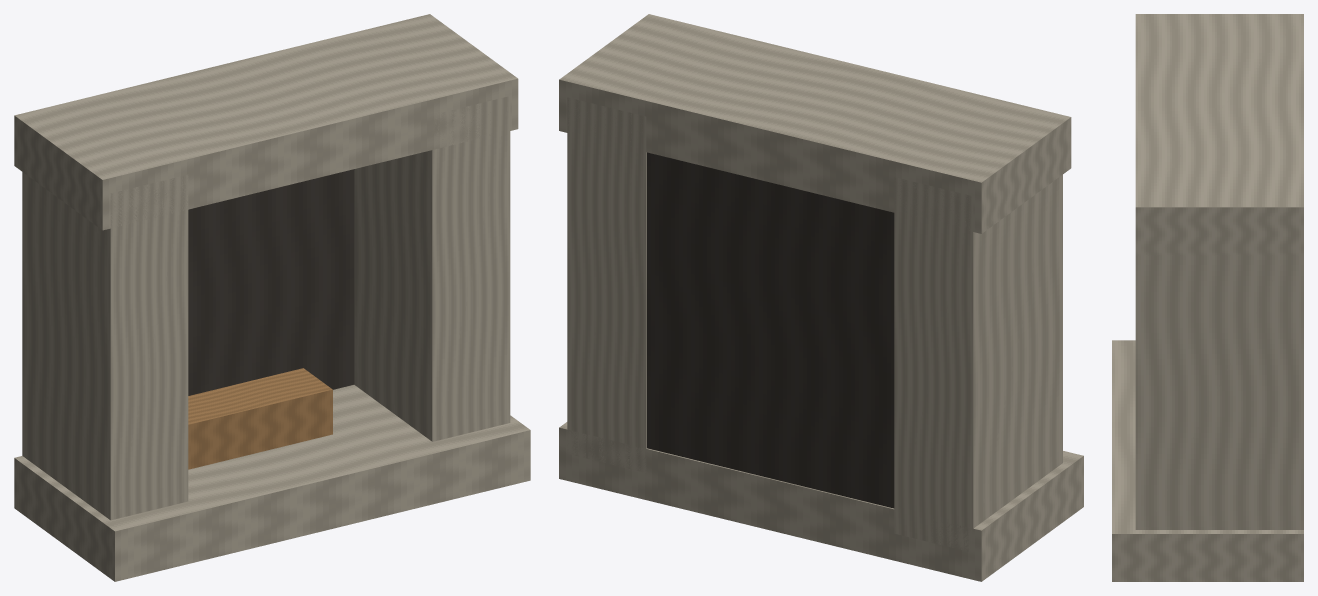
3 views of the same model, side by side, from view 1: azimuth 30°, elevation 25°; view 2: azimuth 150°, elevation 25°; view 3: azimuth 270°, elevation 25° (orthographic). The views are drawn at different scales.
Visible parts, largest first — view 1: Steinerner Hüttenherd; view 2: Steinerner Hüttenherd; view 3: Steinerner Hüttenherd.
Boxes of the visible parts, bbox=[...] form: Steinerner Hüttenherd: bbox=[14, 14, 530, 581]; Steinerner Hüttenherd: bbox=[559, 14, 1083, 581]; Steinerner Hüttenherd: bbox=[1112, 14, 1303, 581].
Size of the model in its own units: 1.55 by 1.4 by 0.65.
Materials: 3 (3 with a texture image).
